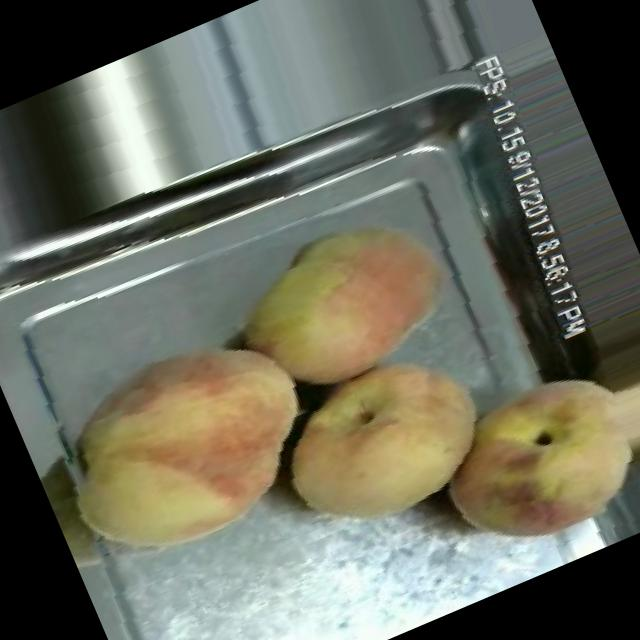Fruit: (35, 304, 347, 584), (207, 186, 477, 417), (255, 331, 515, 558), (412, 348, 640, 578)
